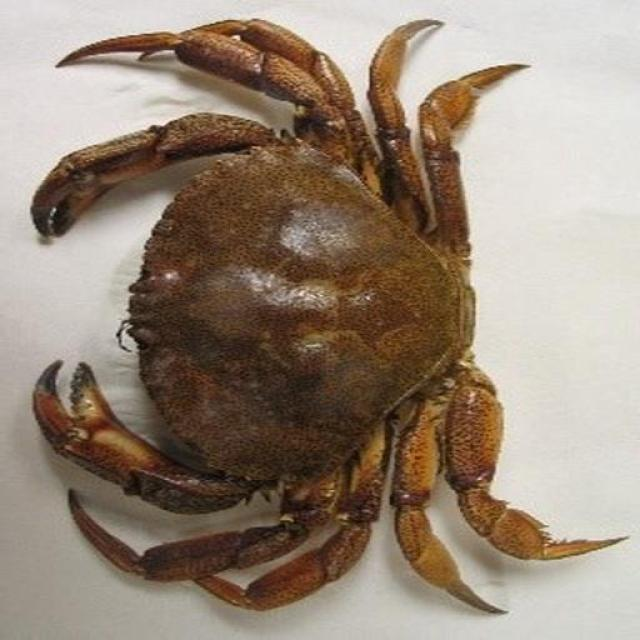Native Rock crab: (32, 20, 620, 612)
